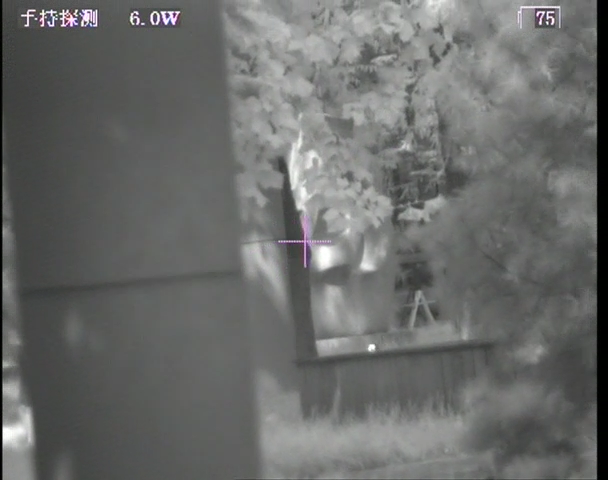my: (366, 342, 377, 354)
